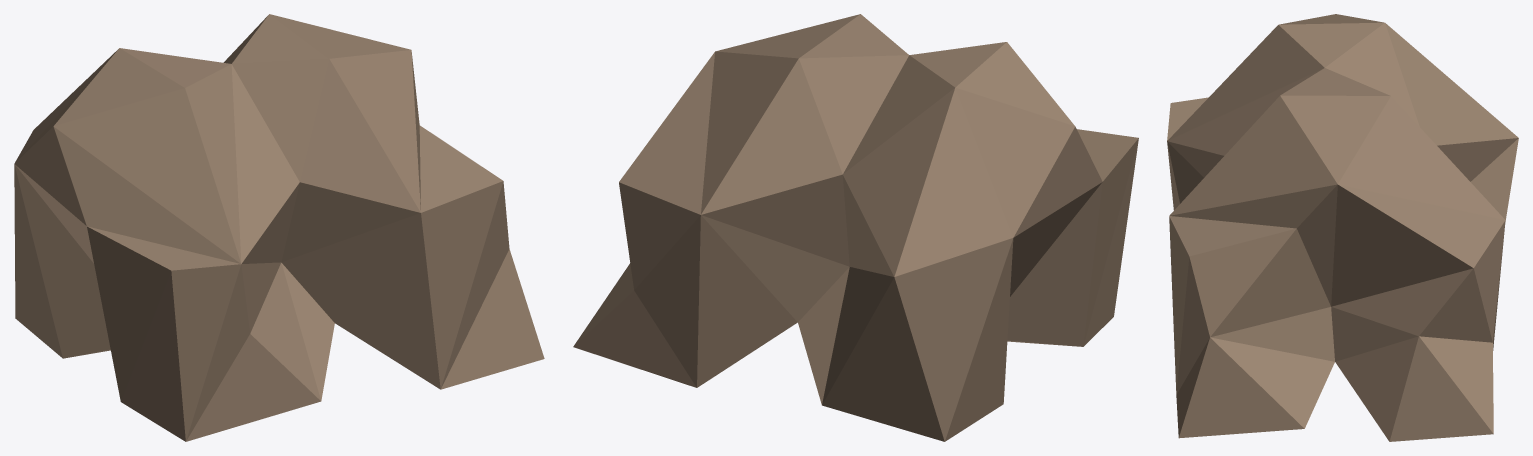
3 views of the same model, side by side, from view 1: azimuth 30°, elevation 25°; view 2: azimuth 150°, elevation 25°; view 3: azimuth 270°, elevation 25° (orthographic). The views are drawn at different scales.
Parts seen in each view (by area): view 1: part0; view 2: part0; view 3: part0.
Boxes of the visible parts, x1,y1,x2,y2 form: part0: (14,14,544,441); part0: (573,14,1138,441); part0: (1167,14,1518,441).
Bounding box in the file's own units: 2.15 × 1.53 × 1.73.
